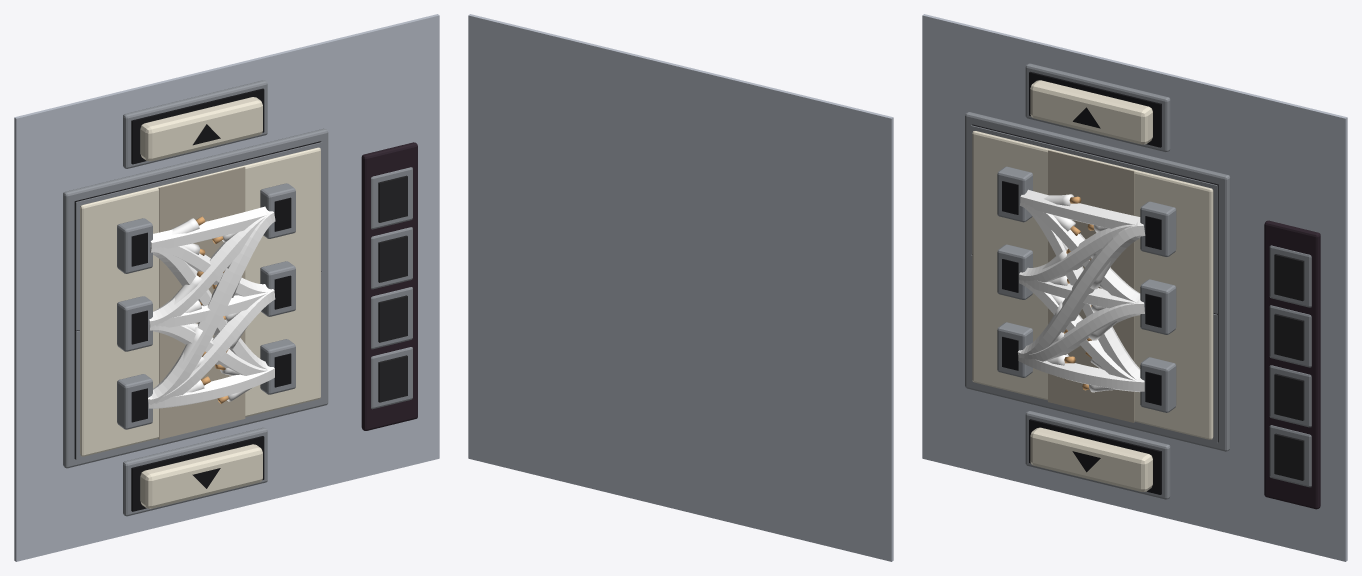
File: wire_sequences_module.glb
3 views of the same model, side by side, from view 1: azimuth 30°, elevation 25°; view 2: azimuth 150°, elevation 25°; view 3: azimuth 330°, elevation 25° (orthographic).
Parts seen in each view (by area): view 1: seq_plate, seq_panel_plate, seq_frame, seq_panel_band, seq_led_strip, part_seq_down, part_seq_up, hit_seq_2A, seq_down_tray, seq_up_tray, seq_door_top, hit_seq_1A (+31 smaller); view 2: seq_plate; view 3: seq_plate, seq_panel_plate, seq_frame, seq_panel_band, seq_led_strip, part_seq_up, part_seq_down, hit_seq_2A, seq_up_tray, seq_down_tray, seq_door_top, hit_seq_2B (+31 smaller).
Part boxes in pixels (x1,y1,x2,y2): seq_plate: (14, 14, 439, 561); seq_panel_plate: (80, 147, 320, 456); seq_frame: (63, 128, 328, 468); seq_panel_band: (158, 167, 245, 439); seq_led_strip: (361, 142, 417, 430); part_seq_down: (140, 444, 262, 508); part_seq_up: (140, 97, 262, 161); hit_seq_2A: (148, 210, 275, 408); seq_down_tray: (123, 427, 267, 516); seq_up_tray: (123, 80, 267, 168); seq_door_top: (75, 142, 322, 330); hit_seq_1A: (149, 208, 273, 326); seq_plate: (468, 14, 893, 561); seq_plate: (922, 14, 1347, 561); seq_panel_plate: (972, 131, 1213, 439); seq_frame: (965, 112, 1230, 451); seq_panel_band: (1048, 150, 1134, 422); seq_led_strip: (1264, 220, 1320, 509); part_seq_up: (1030, 80, 1152, 144); part_seq_down: (1030, 427, 1152, 491); hit_seq_2A: (1017, 221, 1145, 357); seq_up_tray: (1025, 63, 1170, 152); seq_down_tray: (1025, 411, 1170, 499); seq_door_top: (971, 125, 1217, 313); hit_seq_2B: (1018, 299, 1144, 361).
Size of the model in its own units: 0.74 by 0.74 by 0.0819.
